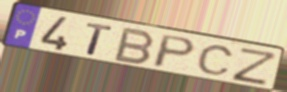4: (37, 16, 70, 53)
B: (111, 26, 157, 66)
C: (195, 44, 236, 76)
P: (150, 33, 199, 70)
T: (84, 21, 115, 58)
Z: (230, 46, 281, 87)
